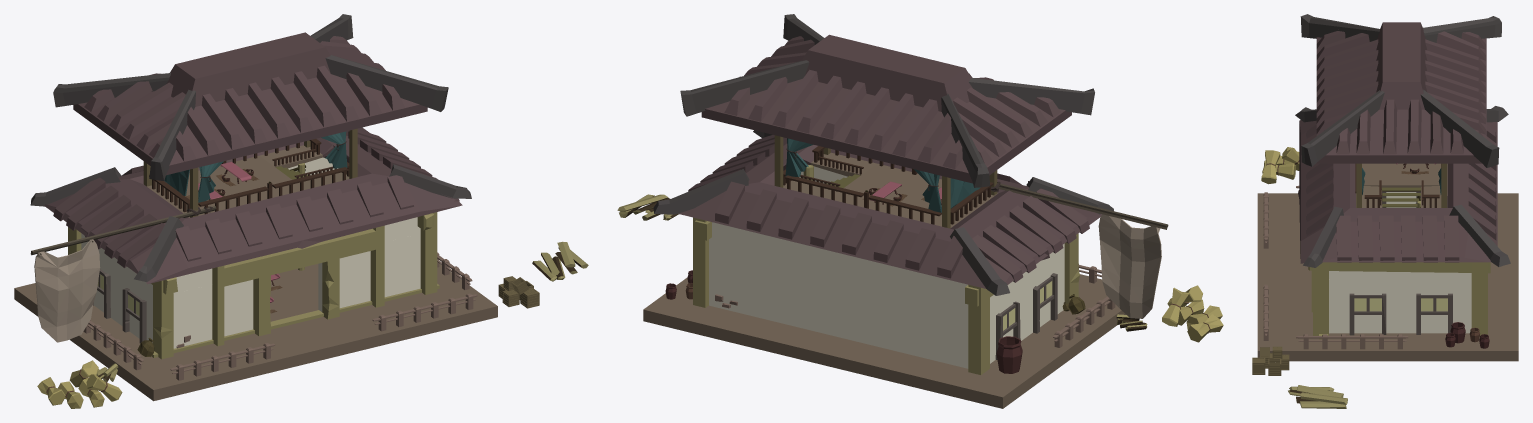
The picture shows the model from 3 angles, left to right: view 1: azimuth 30°, elevation 25°; view 2: azimuth 150°, elevation 25°; view 3: azimuth 270°, elevation 25°; orthographic projection. The views are drawn at different scales.
Parts seen in each view (by area): view 1: 酒馆2_酒馆2_polySurface1811_569; view 2: 酒馆2_酒馆2_polySurface1811_569; view 3: 酒馆2_酒馆2_polySurface1811_569.
Boxes of the visible parts, x1=… form: 酒馆2_酒馆2_polySurface1811_569: x1=14, y1=14, x2=588, y2=408; 酒馆2_酒馆2_polySurface1811_569: x1=617, y1=14, x2=1223, y2=408; 酒馆2_酒馆2_polySurface1811_569: x1=1252, y1=14, x2=1518, y2=408.
Size of the model in its own units: 4988 by 2141 by 2237.
